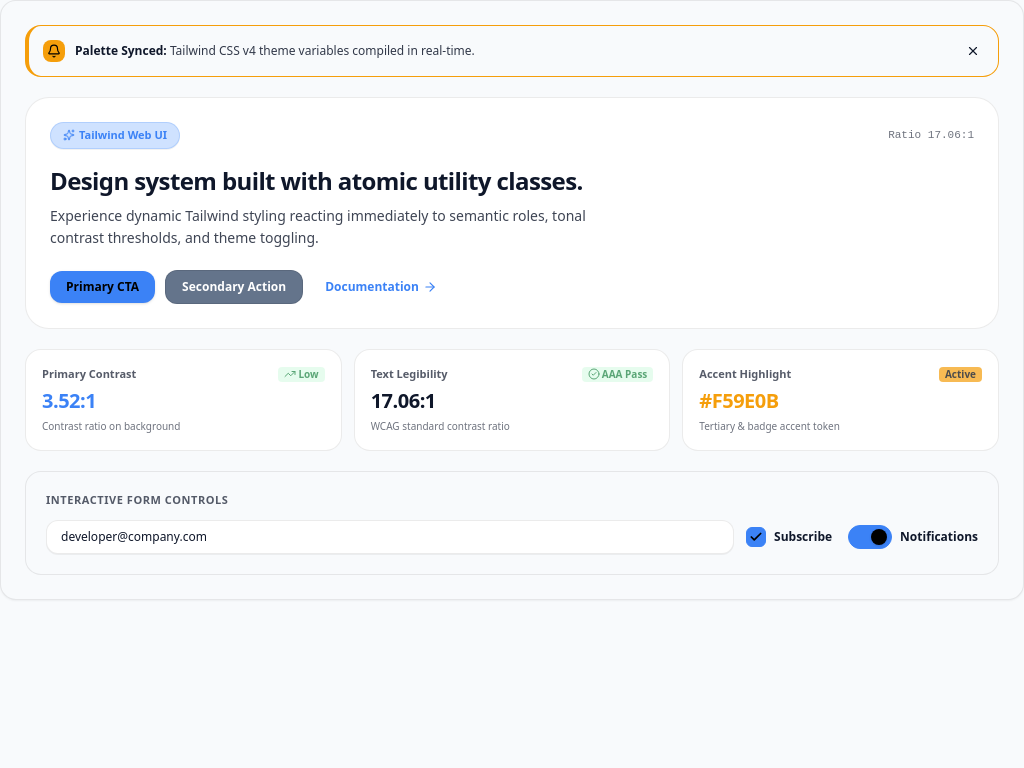
Test: TailwindWebPreview (TT-010) › dismisses and restores alert banner
Expected: the element with test id "tailwind-alert-banner" is shown, [25, 25, 999, 77]
What coordinates should you click on to do the following:
click the button named "Dismiss alert"
I would click on:
 (973, 51)
Its box is [962, 40, 984, 62].
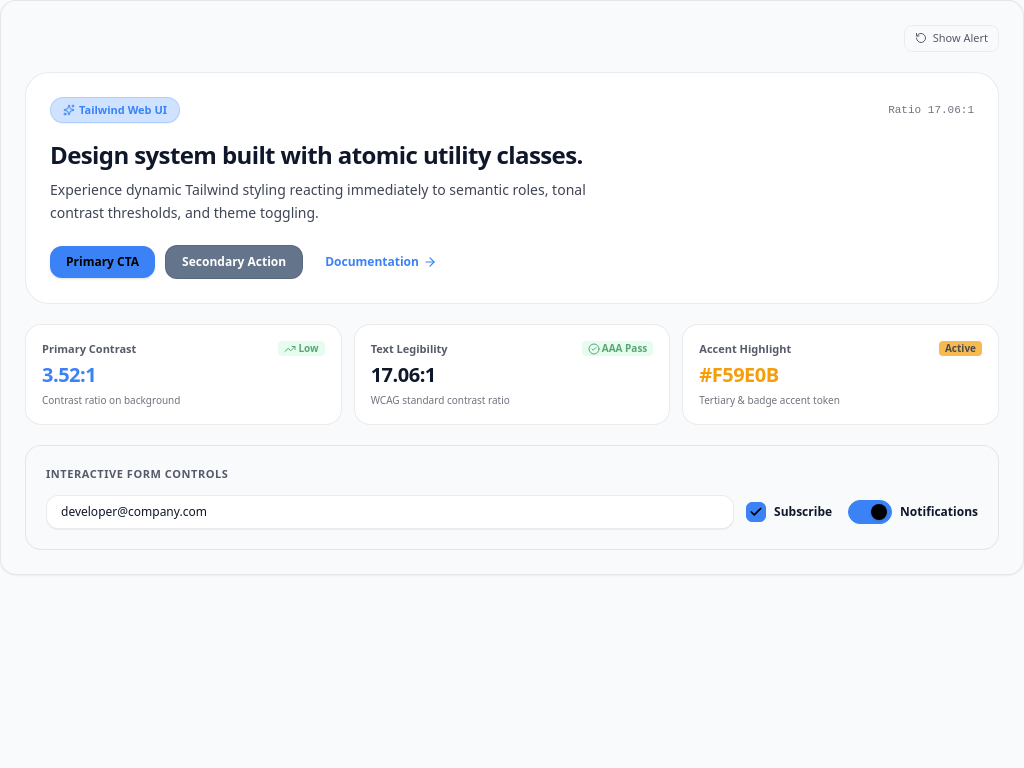
What coordinates should you click on to do the following:
click the button "Show Alert"
I would click on:
 (951, 38)
Its box is [904, 25, 999, 52].
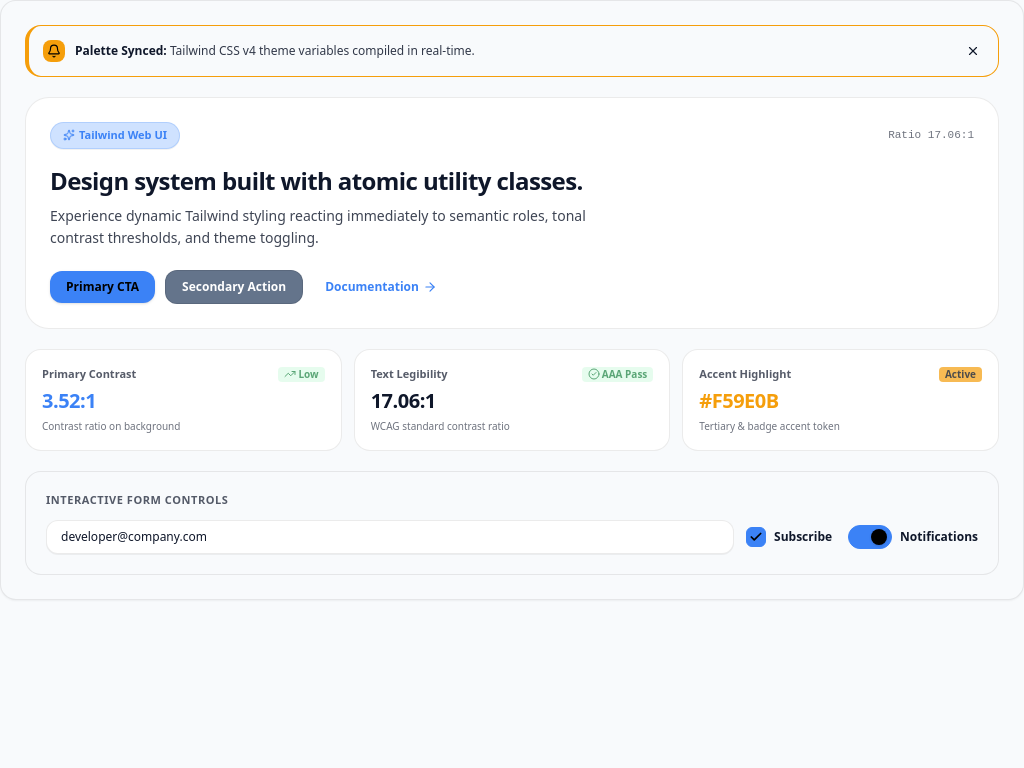
Now the element with test id "tailwind-alert-banner" is shown, box [25, 25, 999, 77]
